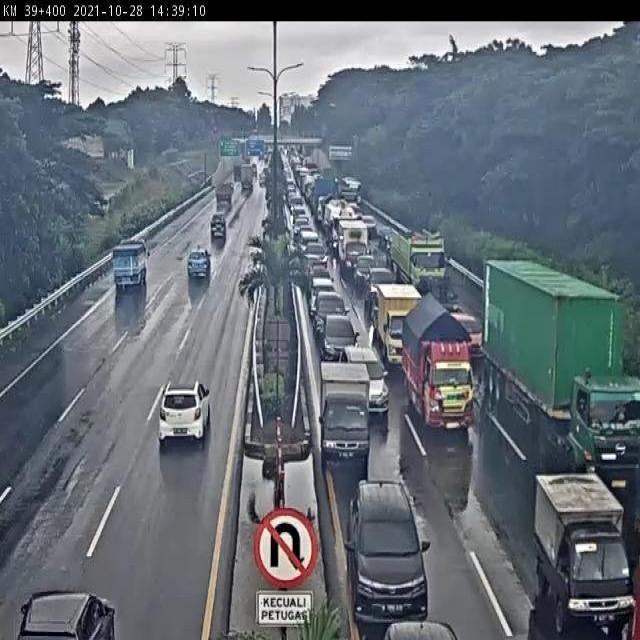big truck: (535, 286, 640, 494)
car: (345, 467, 439, 608), (146, 373, 210, 464), (341, 336, 394, 413), (106, 236, 150, 300), (318, 307, 359, 365)
small truck: (521, 458, 627, 626), (413, 312, 479, 435), (318, 363, 378, 469), (376, 283, 424, 367)
